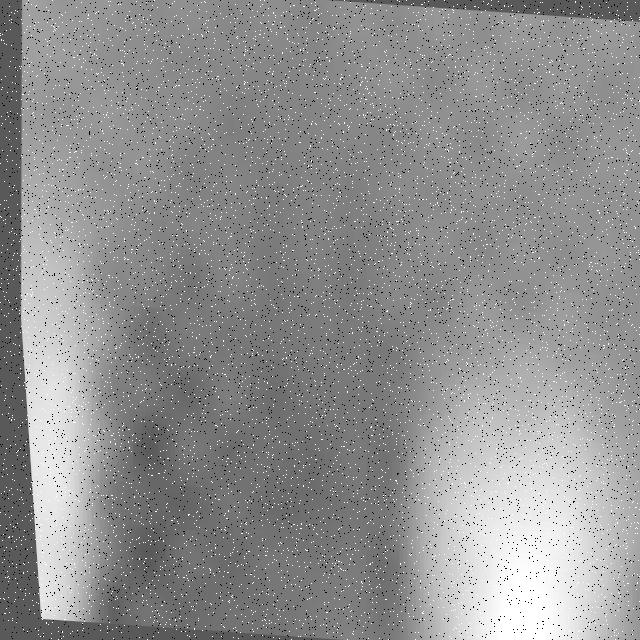person: (382, 386, 640, 640)
